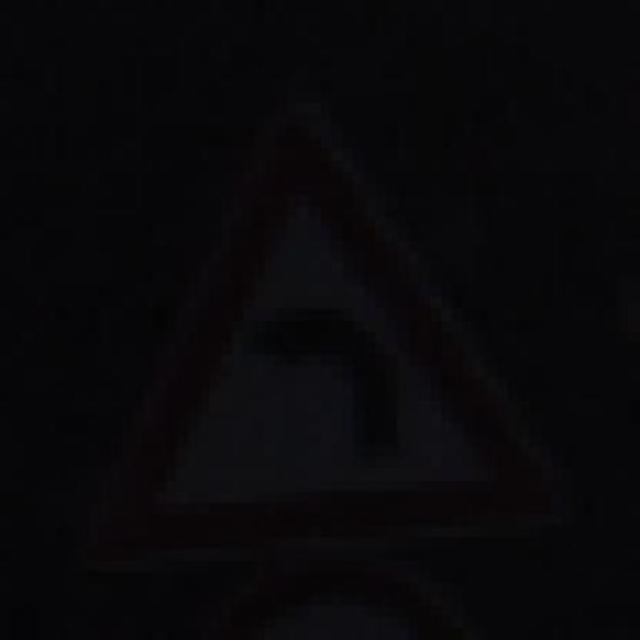Dangerous Left Curve Ahead: (133, 149, 542, 560)
